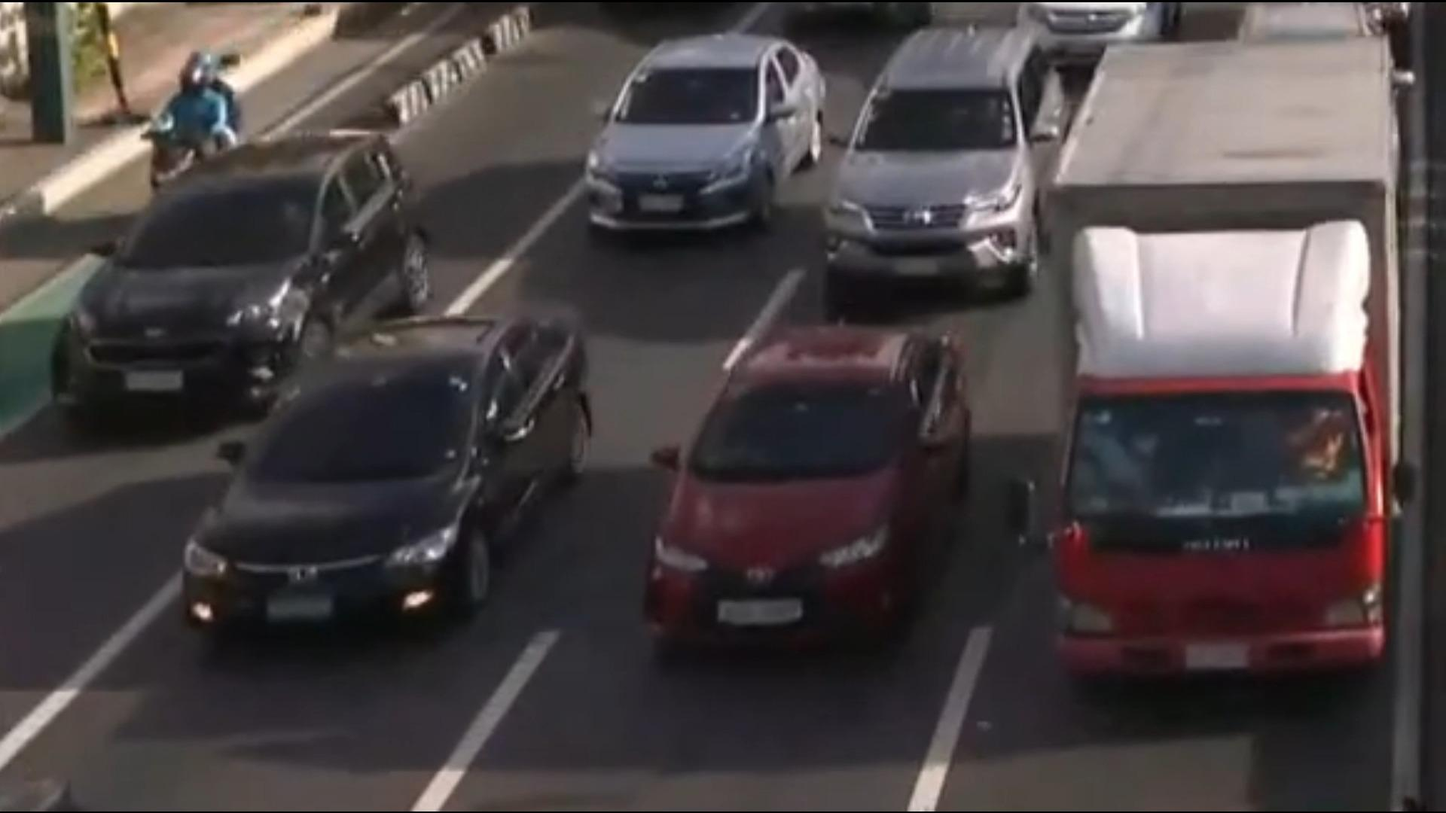Motorcycle: (116, 27, 270, 240)
SUV: (24, 96, 448, 450), (796, 10, 1096, 318)
Sedan: (165, 288, 616, 658), (605, 311, 1025, 654), (566, 25, 833, 253)
Truck: (1011, 3, 1446, 710)
